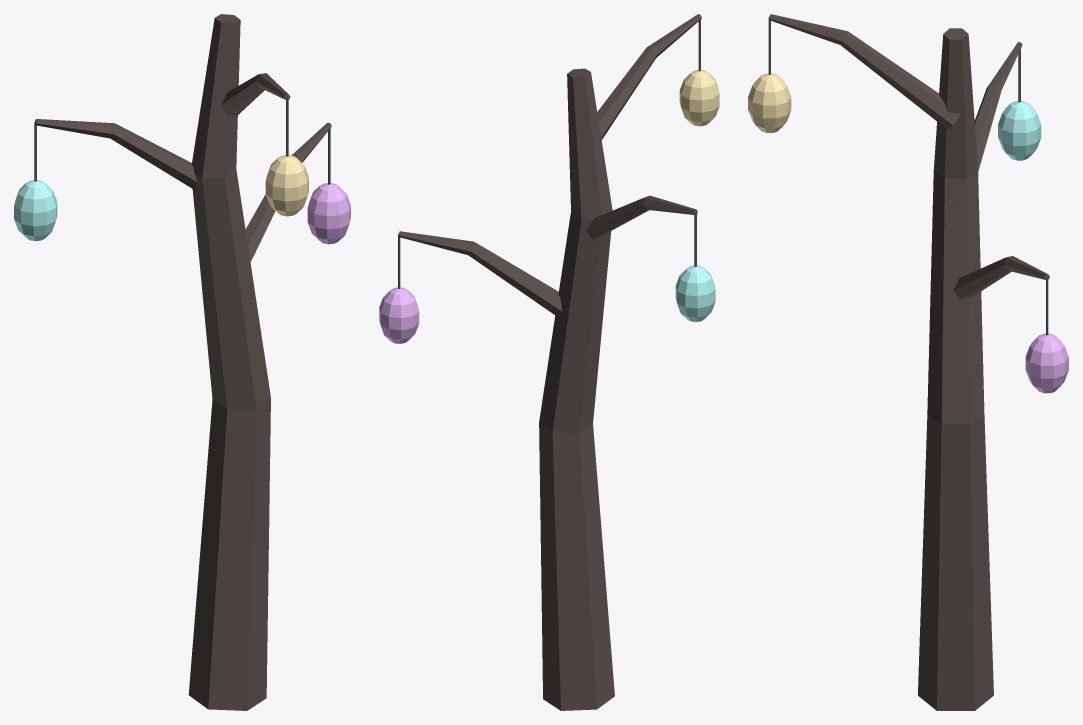
File: SpookyTreeLamp.fbx
3 renders of one model, left to right at view 1: azimuth 30°, elevation 25°; view 2: azimuth 150°, elevation 25°; view 3: azimuth 270°, elevation 25°, orthographic. The views are drawn at different scales.
Visible parts, largest first — view 1: Prop_SpookyTreeLamp; view 2: Prop_SpookyTreeLamp; view 3: Prop_SpookyTreeLamp.
Boxes of the visible parts, x1=… form: Prop_SpookyTreeLamp: x1=14, y1=14, x2=350, y2=710; Prop_SpookyTreeLamp: x1=379, y1=14, x2=719, y2=710; Prop_SpookyTreeLamp: x1=748, y1=14, x2=1068, y2=710.
Size of the model in its own units: 1.22 by 2.31 by 1.01.
